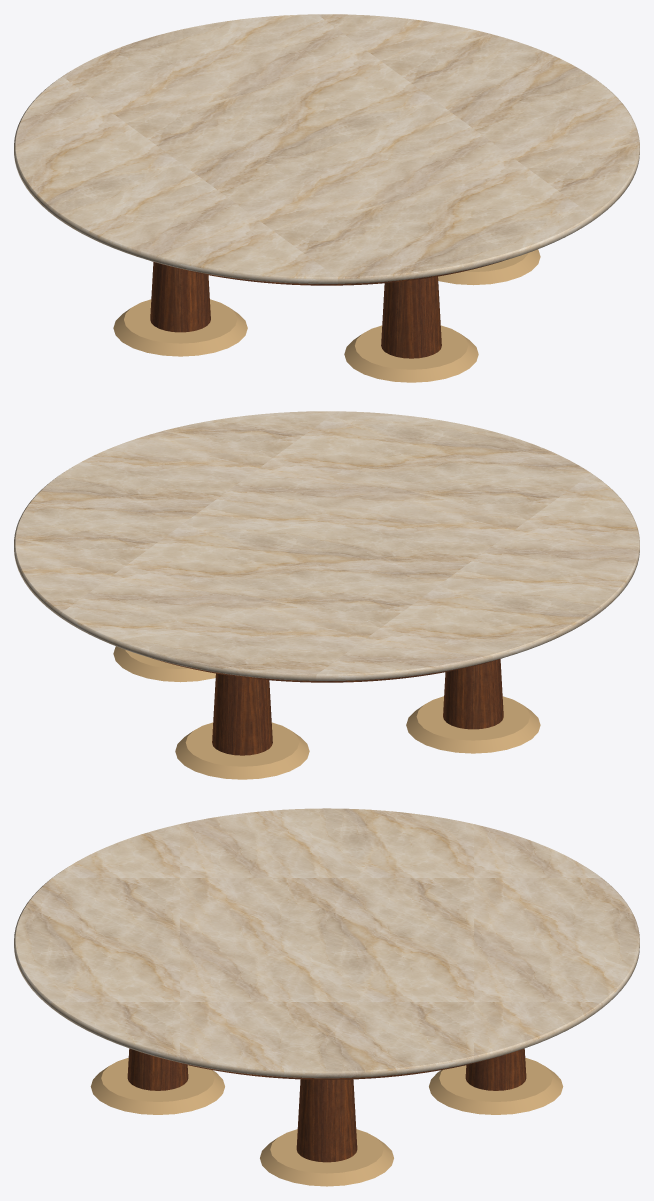
The model's file is SaloonRoundTableFor12.glb.
3 views of the same model, one above another, from view 1: azimuth 30°, elevation 25°; view 2: azimuth 150°, elevation 25°; view 3: azimuth 270°, elevation 25° (orthographic).
Parts seen in each view (by area): view 1: Champagne edge.012; view 2: Champagne edge.012; view 3: Champagne edge.012.
Part boxes in pixels (box(x1,y1,x2,y2)): Champagne edge.012: box(14, 14, 639, 382); Champagne edge.012: box(14, 411, 639, 779); Champagne edge.012: box(14, 808, 639, 1186).
Size of the model in its own units: 2.98 by 0.77 by 2.98.
Materials: 3 (2 with a texture image).
